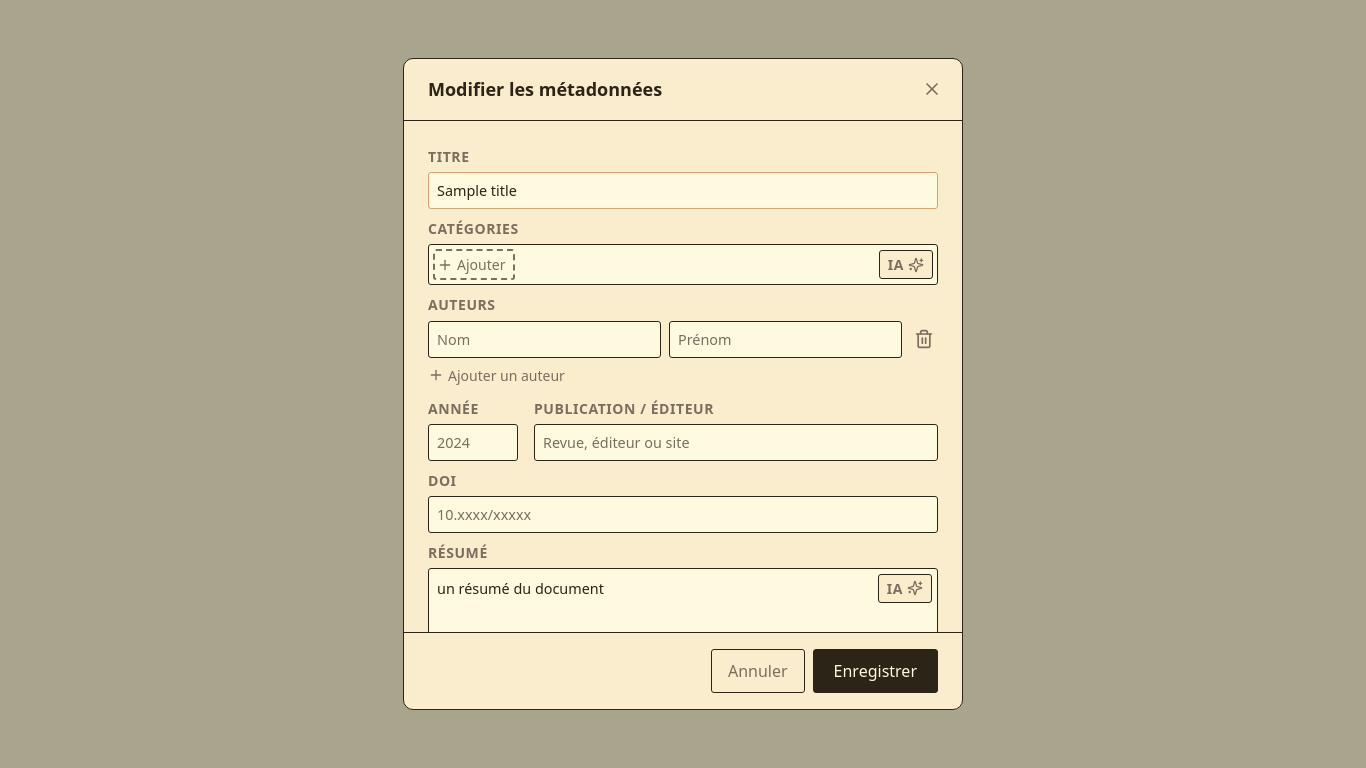
Test: MetadataModal — handleGenerateAbstract › IA categories: surfaces an error message when the response has no parseable array
Click the button with aria-label "générer des catégories avec l’IA". click: coordinates (906, 265)
box: [879,250,933,280]
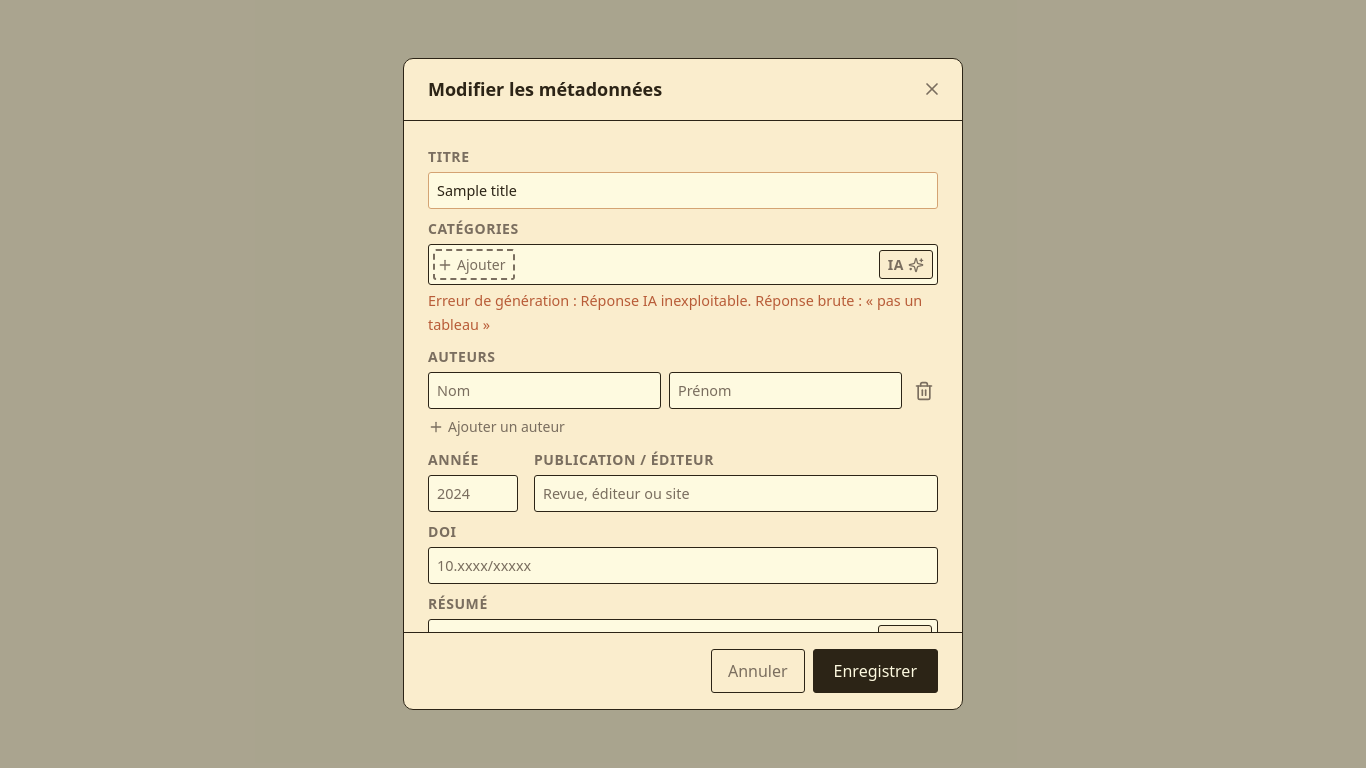
Expected: the text "Réponse IA inexploitable" is shown, [428,292,922,334]
